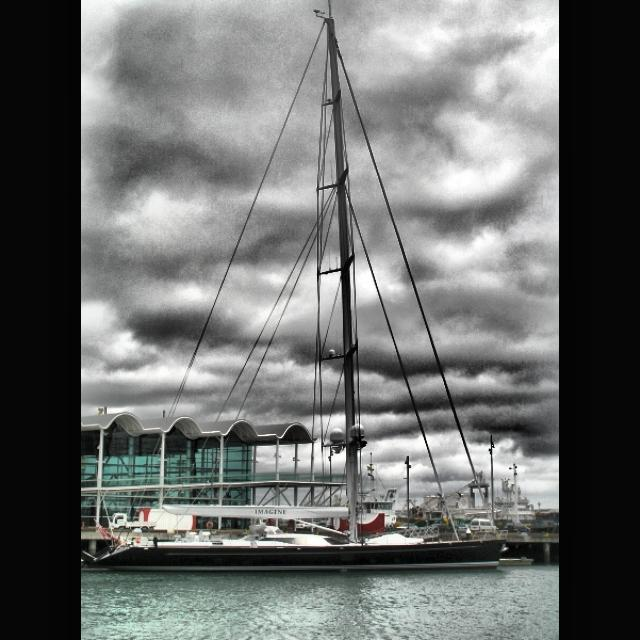sailing_vessel: (91, 9, 512, 574)
